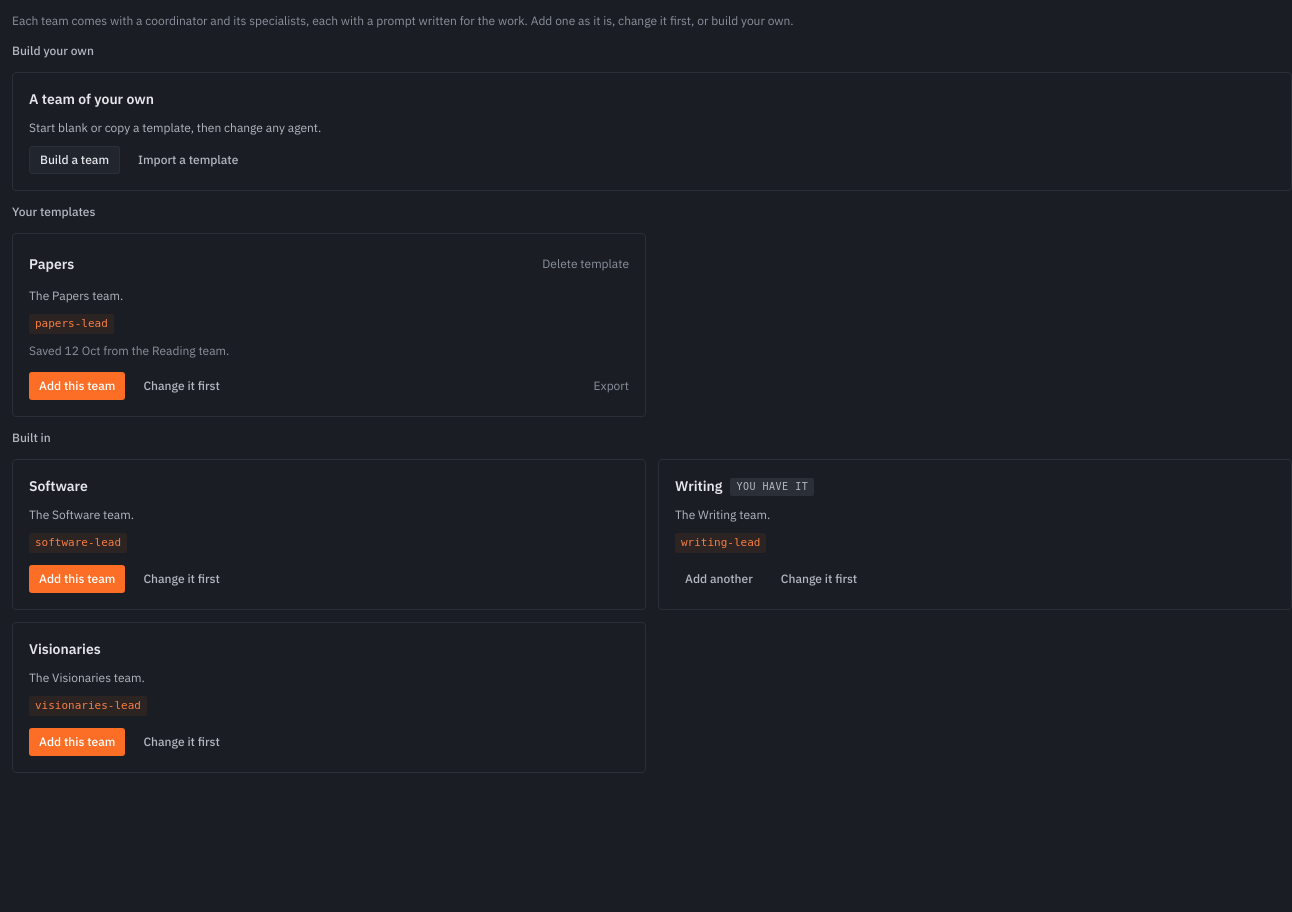
Test case: AddTeam: deleting a template of yours › with none of yours left, Build a team takes focus and Your templates goes
Click the button with aria-label "Delete template, Papers" at (586, 264), box [542,250,629,278]
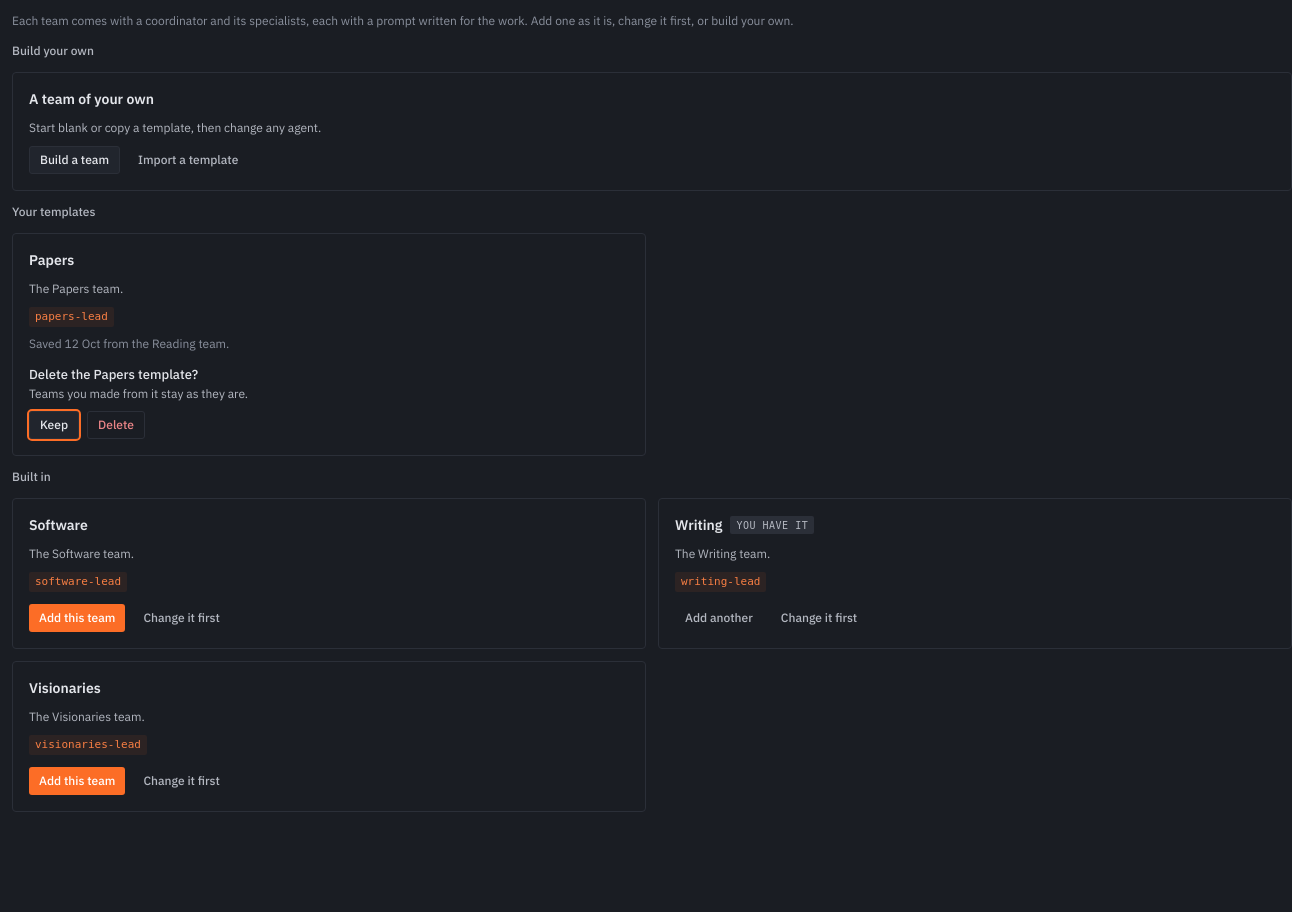
Click the button "Delete" at (116, 424), box [87,410,145,438]
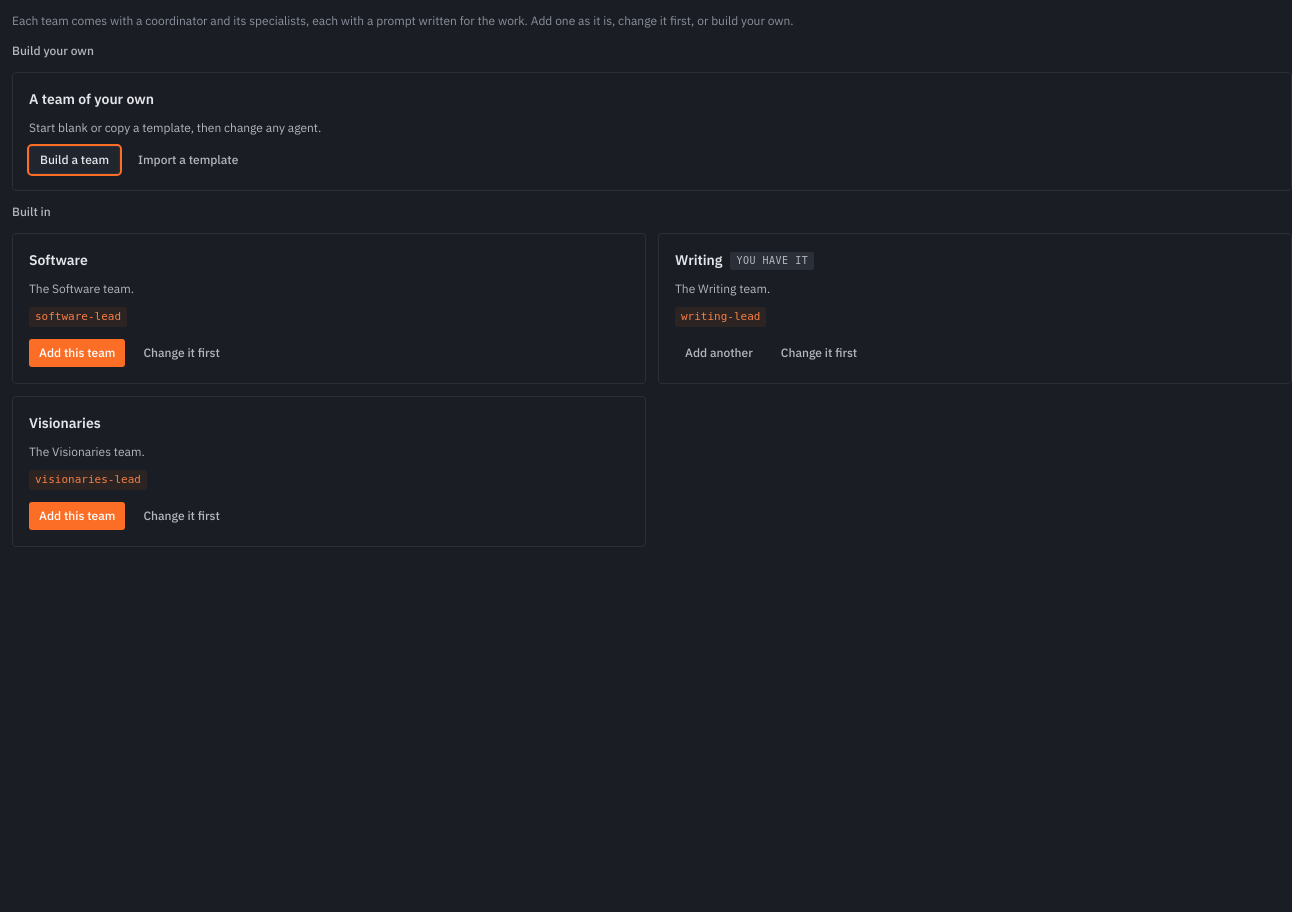
Expected: the heading "Your templates" is gone
